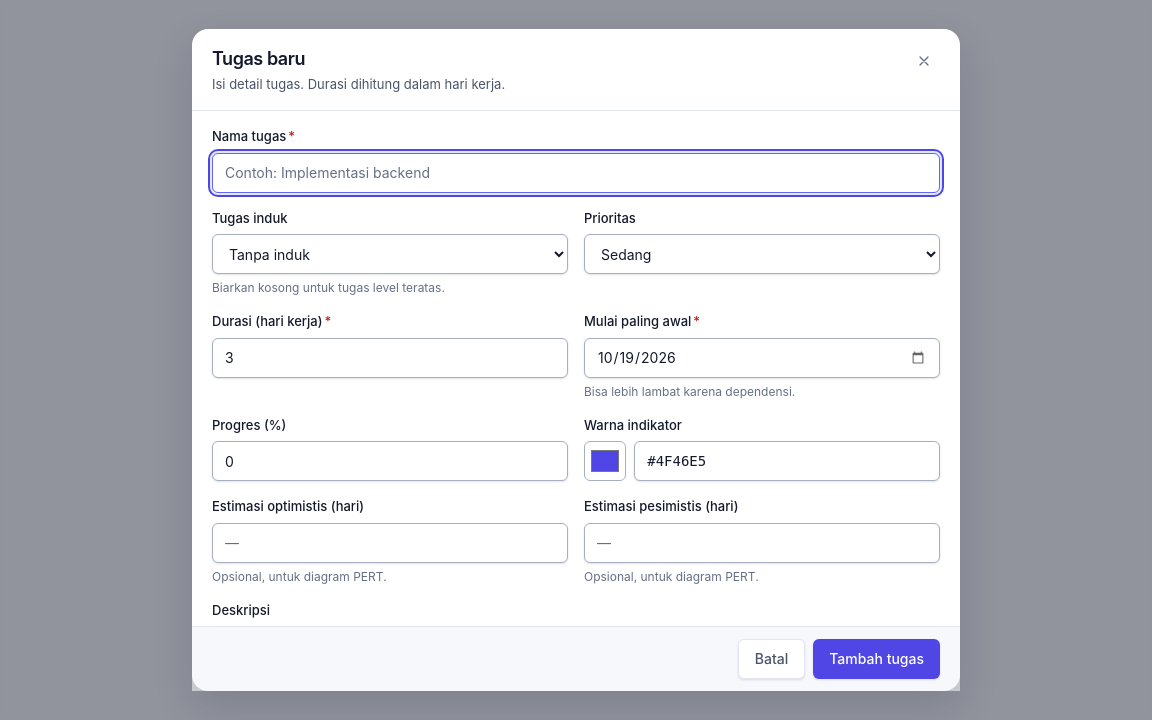
Test: TaskDialog › menolak durasi di bawah satu hari kerja
Replace the text in the number field labelled "Durasi (hari kerja)*" with "0" at {"x": 390, "y": 358}, box [212,338,568,378]
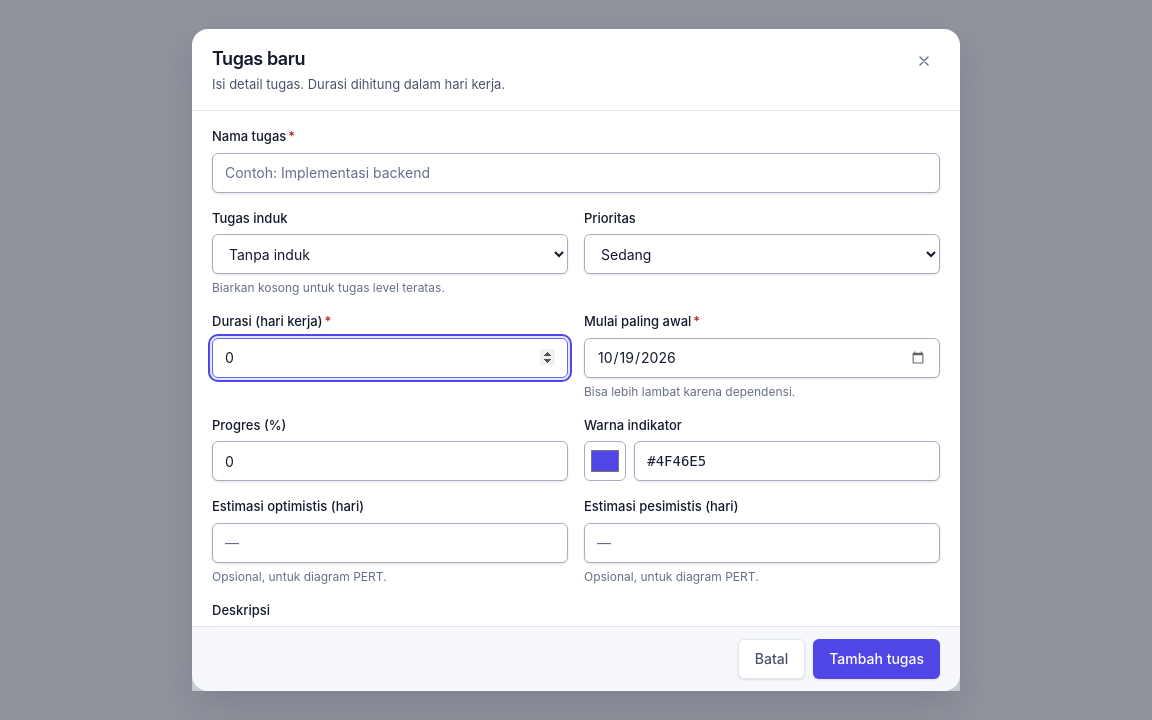
Click the button "Tambah tugas" at {"x": 877, "y": 659}, box [813,639,940,679]
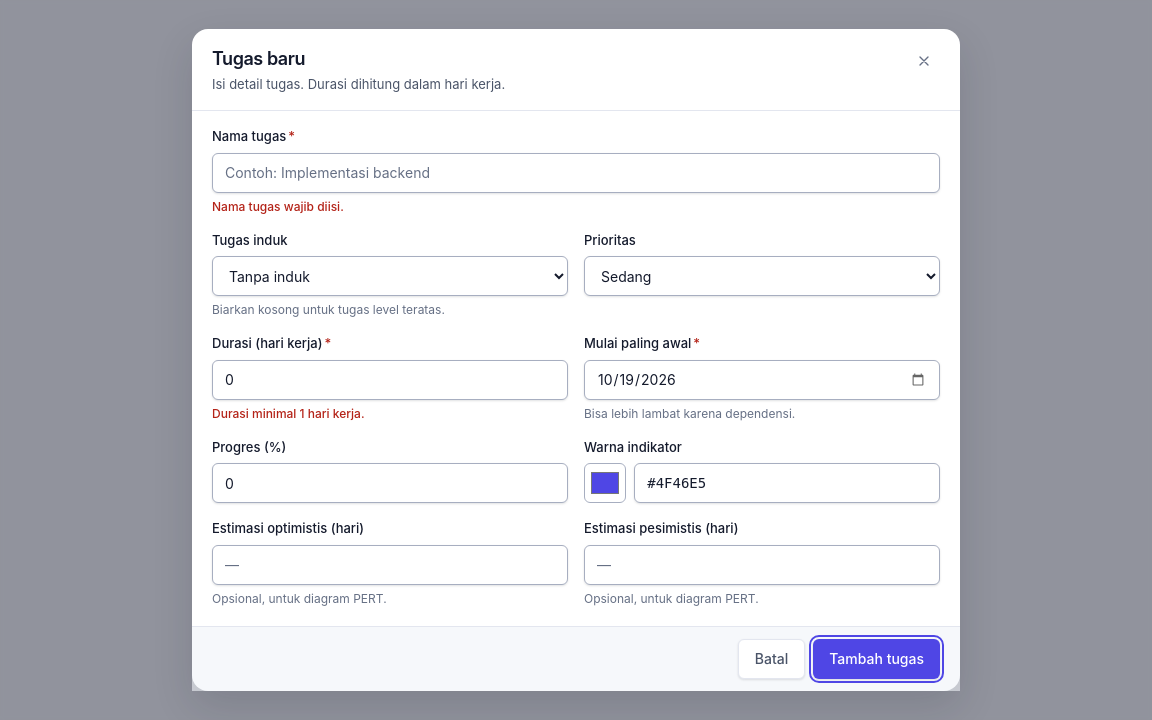
Now the text "Durasi minimal 1 hari kerja." is shown, box [212,406,365,421]
